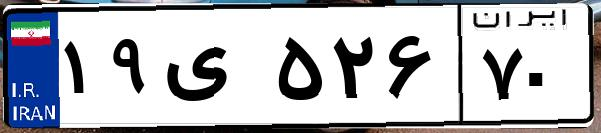0: (525, 38, 570, 115)
1: (57, 26, 110, 100)
2: (330, 28, 385, 110)
5: (270, 28, 330, 110)
6: (385, 28, 445, 110)
7: (475, 38, 525, 113)
9: (110, 28, 158, 98)
ی: (158, 20, 270, 120)
